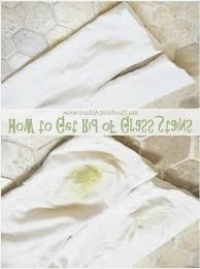earth: (69, 168, 98, 193)
